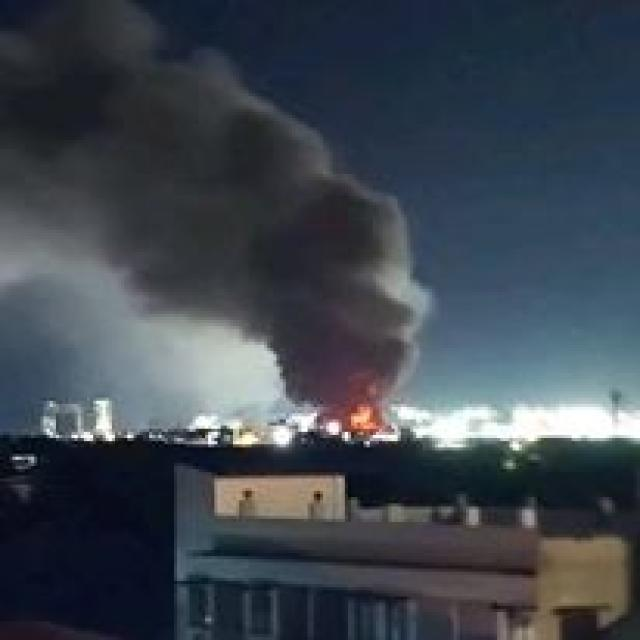Fire: (342, 398, 386, 423)
Smoke: (0, 6, 318, 296), (236, 206, 408, 386)
